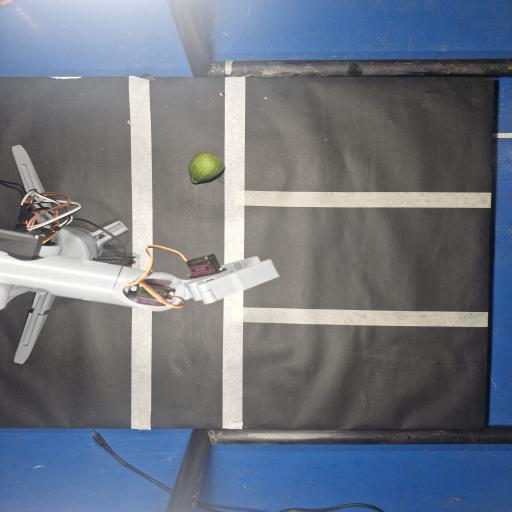higo: (189, 152, 224, 184)
